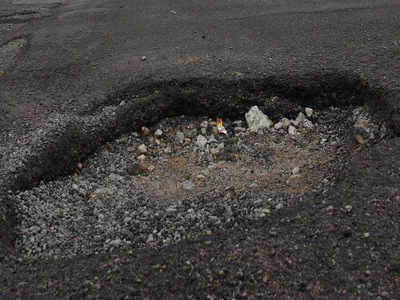pothole: (18, 86, 372, 249)
